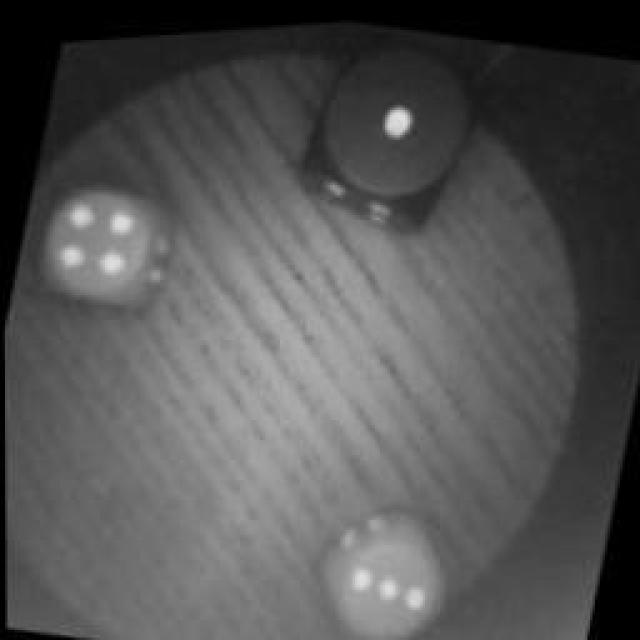dice_1: (279, 19, 489, 239)
dice_3: (297, 492, 465, 640)
dice_4: (25, 152, 185, 312)
